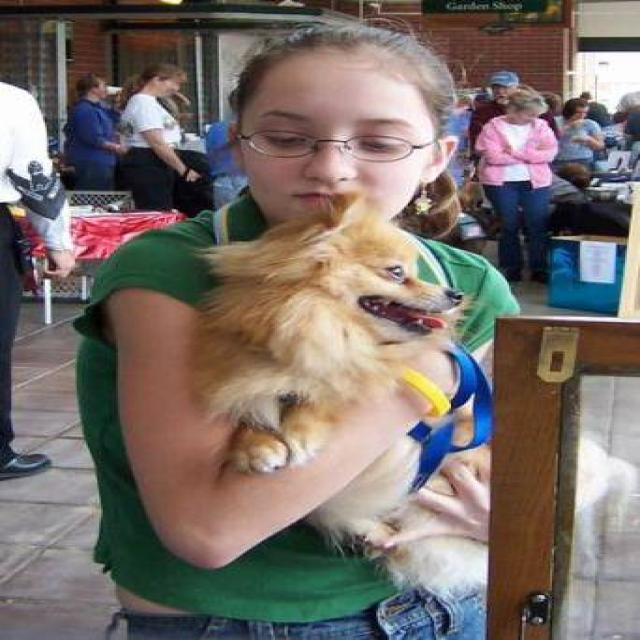Dog: (305, 222, 460, 350)
